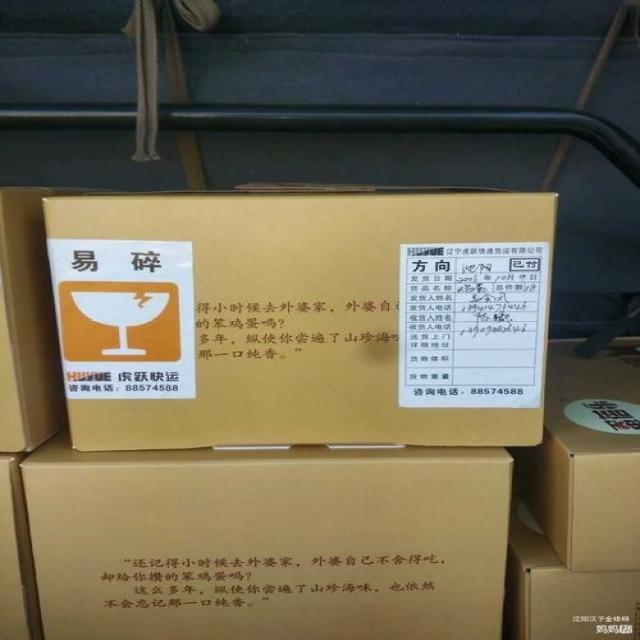box: (41, 191, 558, 452), (19, 425, 515, 640), (509, 356, 640, 573), (508, 488, 640, 640), (0, 187, 69, 453), (0, 457, 44, 639)
